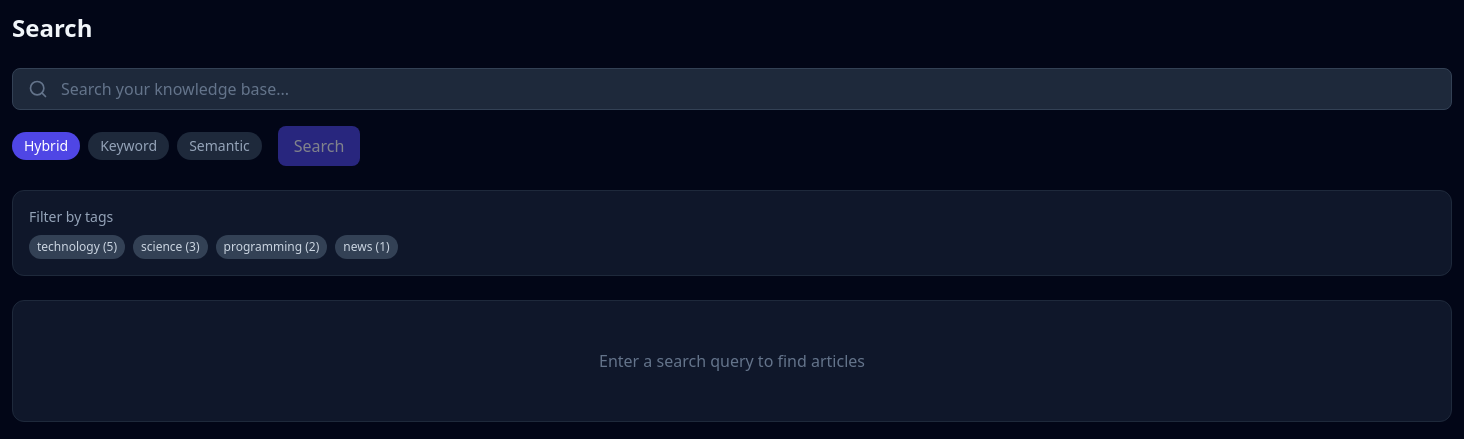
it: Search › shows empty results message when no matches
The width and height of the screenshot is (1464, 439).
In the field with placeholder "Search your knowledge base...": (732, 89) [12,68,1452,110], type "nonexistent"
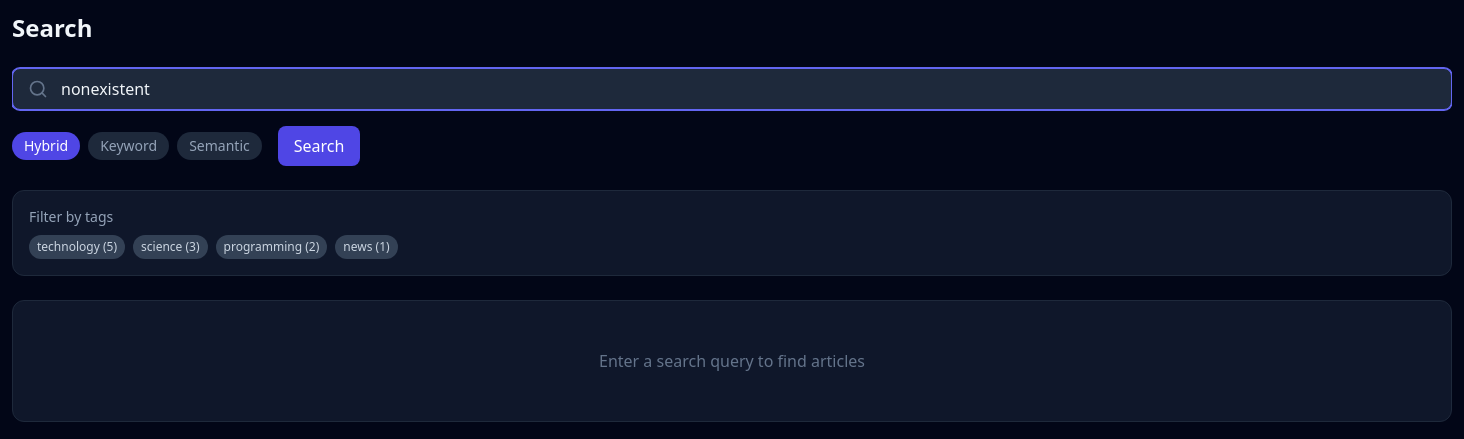
Click the button "Search": (319, 146) [278,126,360,166]
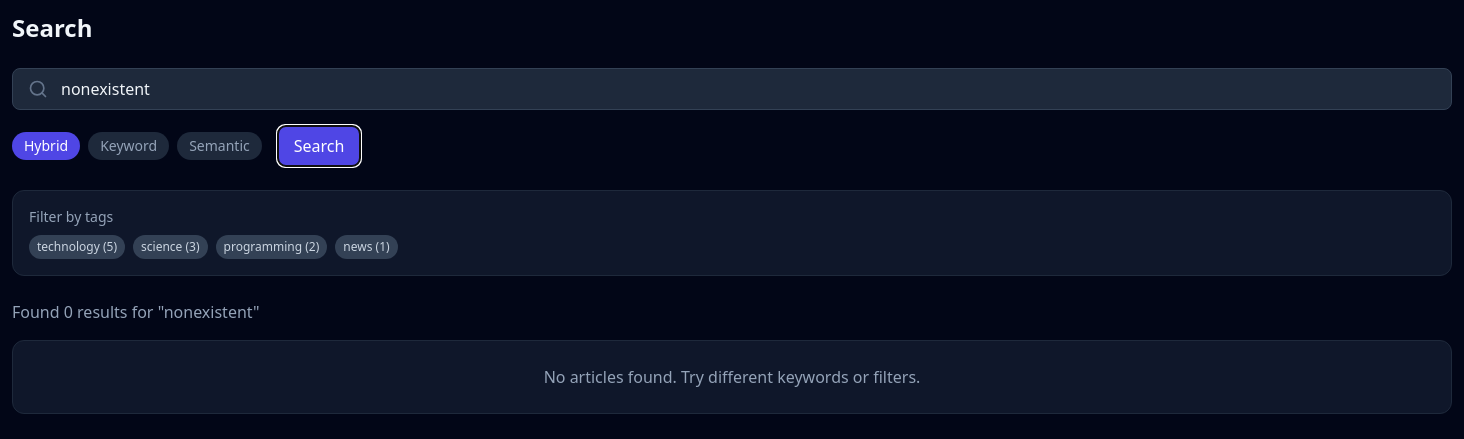
Result: the text "No articles found. Try different keywords or filters." is shown at [12,340,1452,414]
